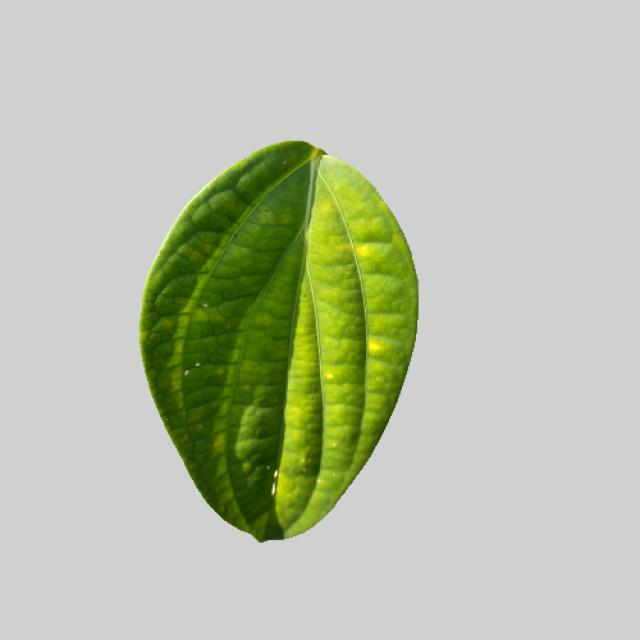healthy: (140, 138, 422, 542)
